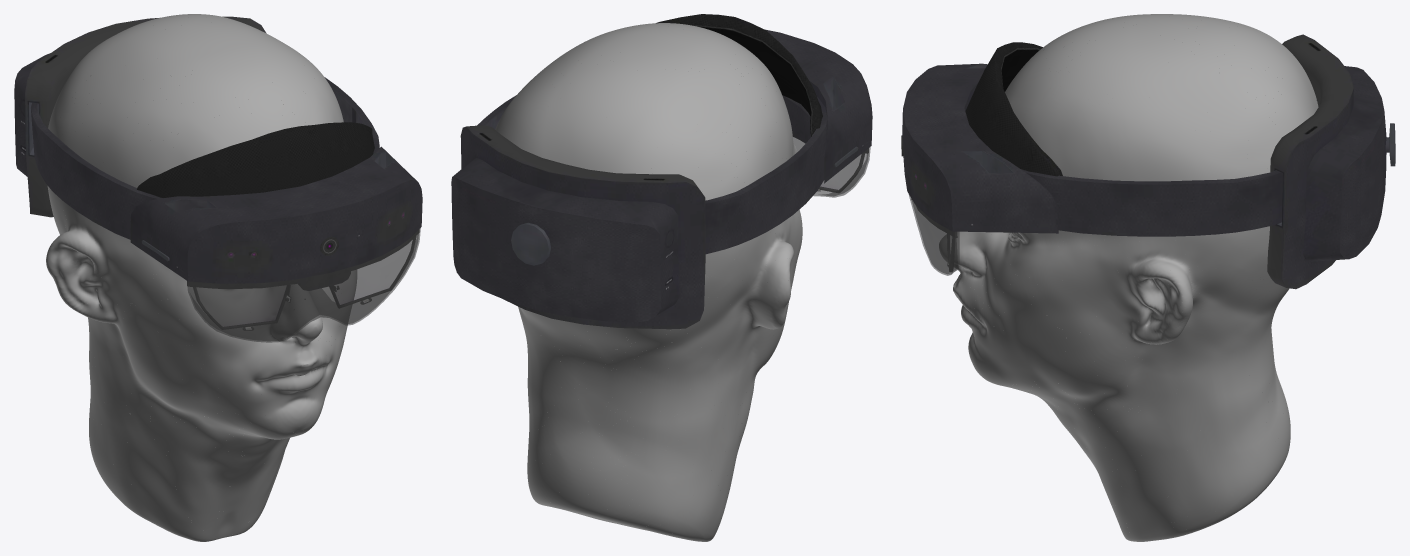
Rendered from person_with_hololens.glb.
3 views of the same model, side by side, from view 1: azimuth 30°, elevation 25°; view 2: azimuth 150°, elevation 25°; view 3: azimuth 270°, elevation 25° (orthographic). The views are drawn at different scales.
Parts seen in each view (by area): view 1: Gafas__0, Object_3, Object_4, Object_2, Object_5, Object_6; view 2: Gafas__0, Object_5, Object_3, Object_4, Object_2, Object_6; view 3: Gafas__0, Object_2, Object_3, Object_4, Object_5, Object_6.
Part boxes in pixels (x1,y1,x2,y2): Gafas__0: (14,16,422,342); Object_3: (72,14,347,439); Object_4: (48,63,333,537); Object_2: (154,14,356,346); Object_5: (46,53,353,541); Object_6: (46,15,303,514); Gafas__0: (451,14,872,329); Object_5: (528,23,799,541); Object_3: (496,66,802,282); Object_4: (518,148,801,481); Object_2: (495,23,777,129); Object_6: (509,38,790,540); Gafas__0: (901,34,1395,289); Object_2: (939,14,1248,344); Object_3: (953,14,1316,410); Object_4: (956,70,1318,541); Object_5: (988,15,1290,541); Object_6: (1138,14,1315,538).
Size of the model in its own units: 33.6 by 52.39 by 47.04.
2 materials, 1 textured.
